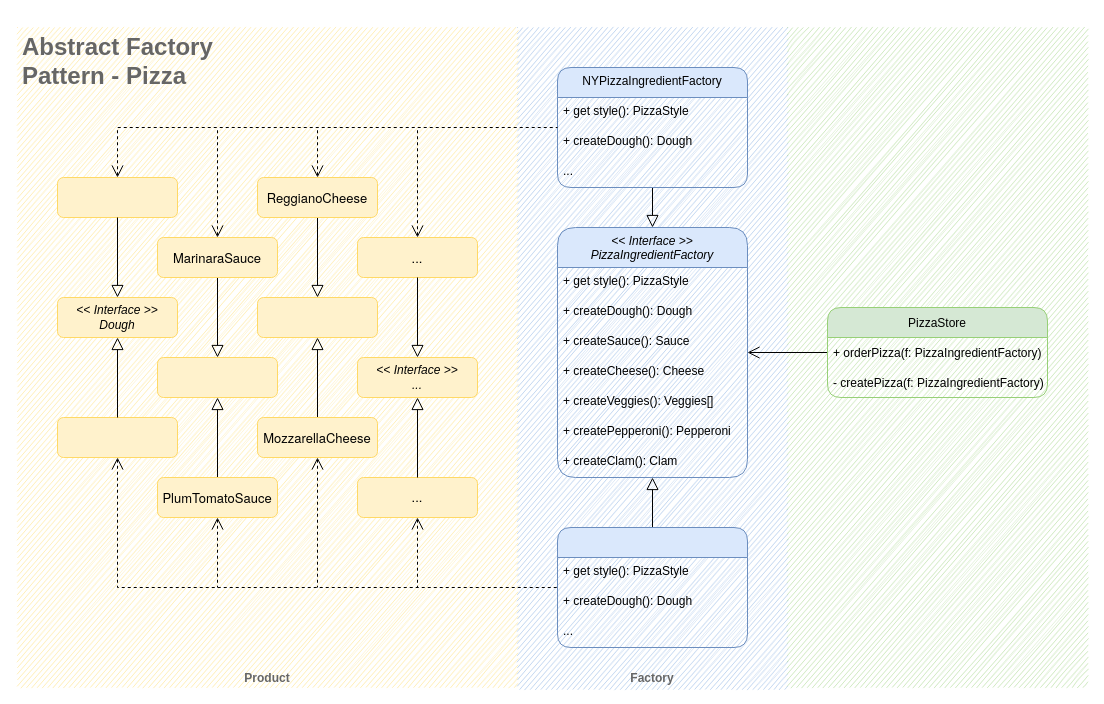
The diagram is 1104 pixels wide and 704 high, and some of its shapes have lost their labels. Here are the shapes that lost their labels. From the top down, the box of each, then its label:
(56, 176, 178, 218): ThickCrustDough
(256, 296, 378, 338): << Interface >> Cheese
(156, 356, 278, 398): << Interface >> Sauce
(787, 27, 1087, 687): Client
(56, 416, 178, 458): ThinCrustDough
(556, 526, 748, 648): ChicagoPizzaIngredientFactory
